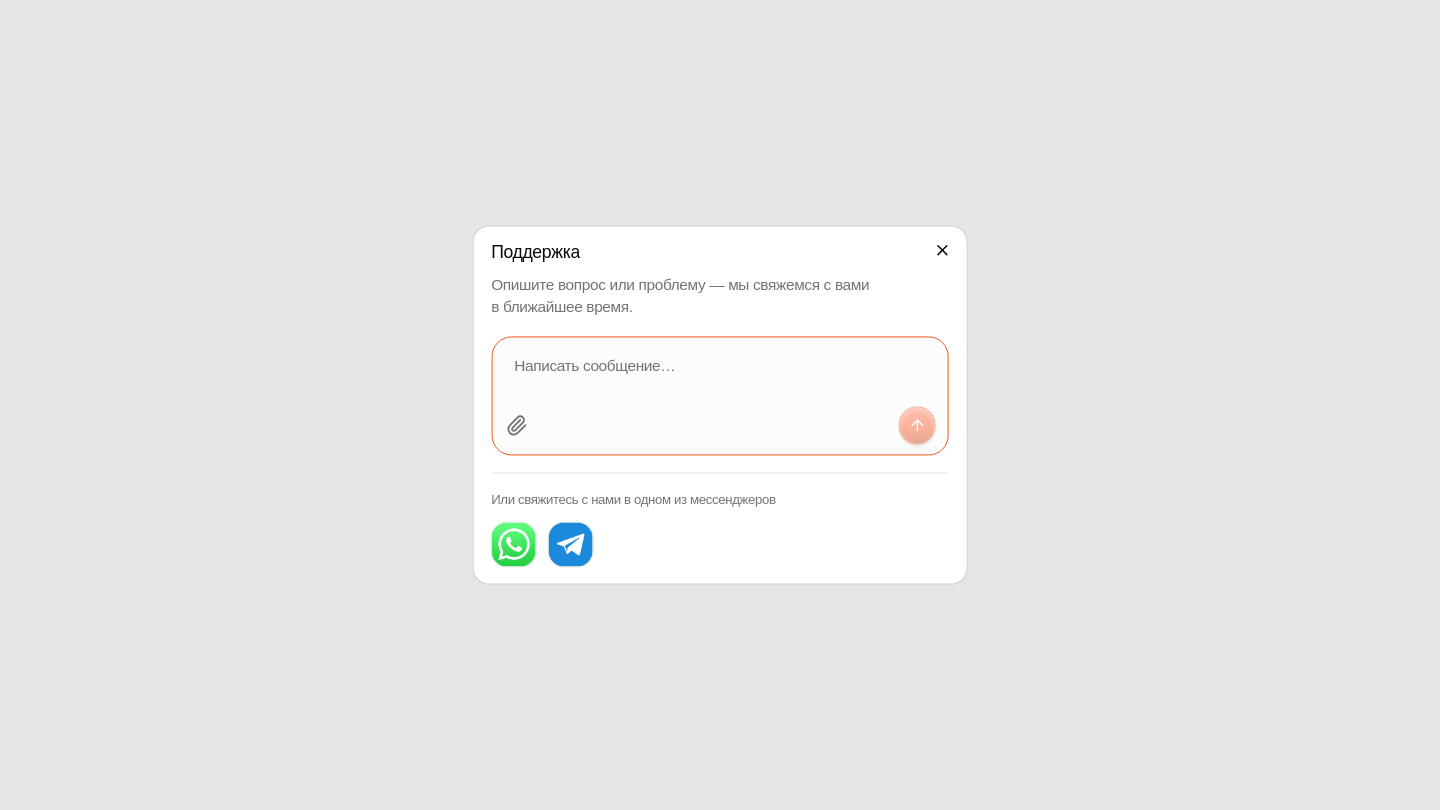
it: SupportDialog › shows an error and keeps the dialog open when sending fails
The width and height of the screenshot is (1440, 810).
Type "Не работает" into the text box.
click(720, 373); type("Не работает")  # box [492,337,948,408]
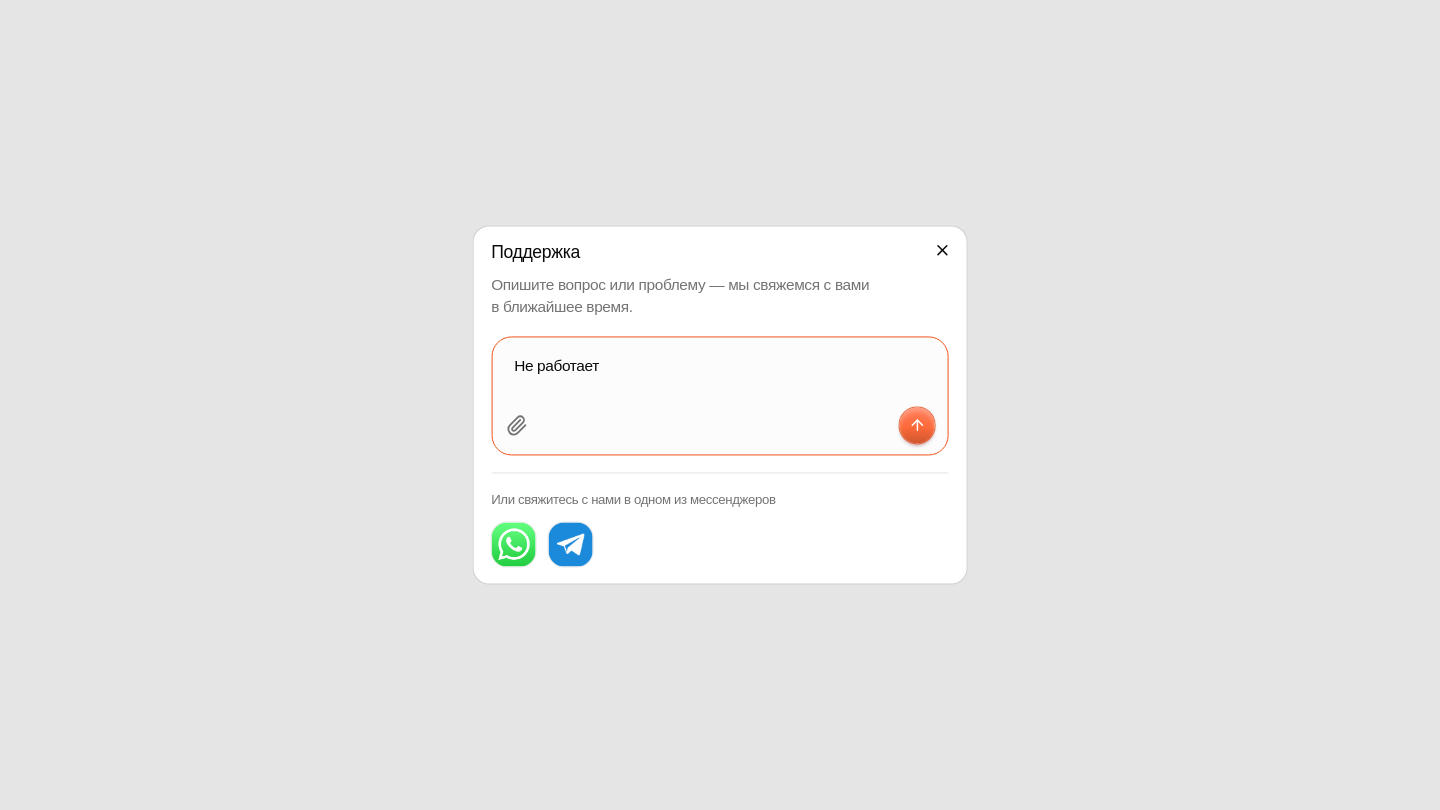
Click the button named "Отправить".
click(917, 425)  # box [899,408,935,443]
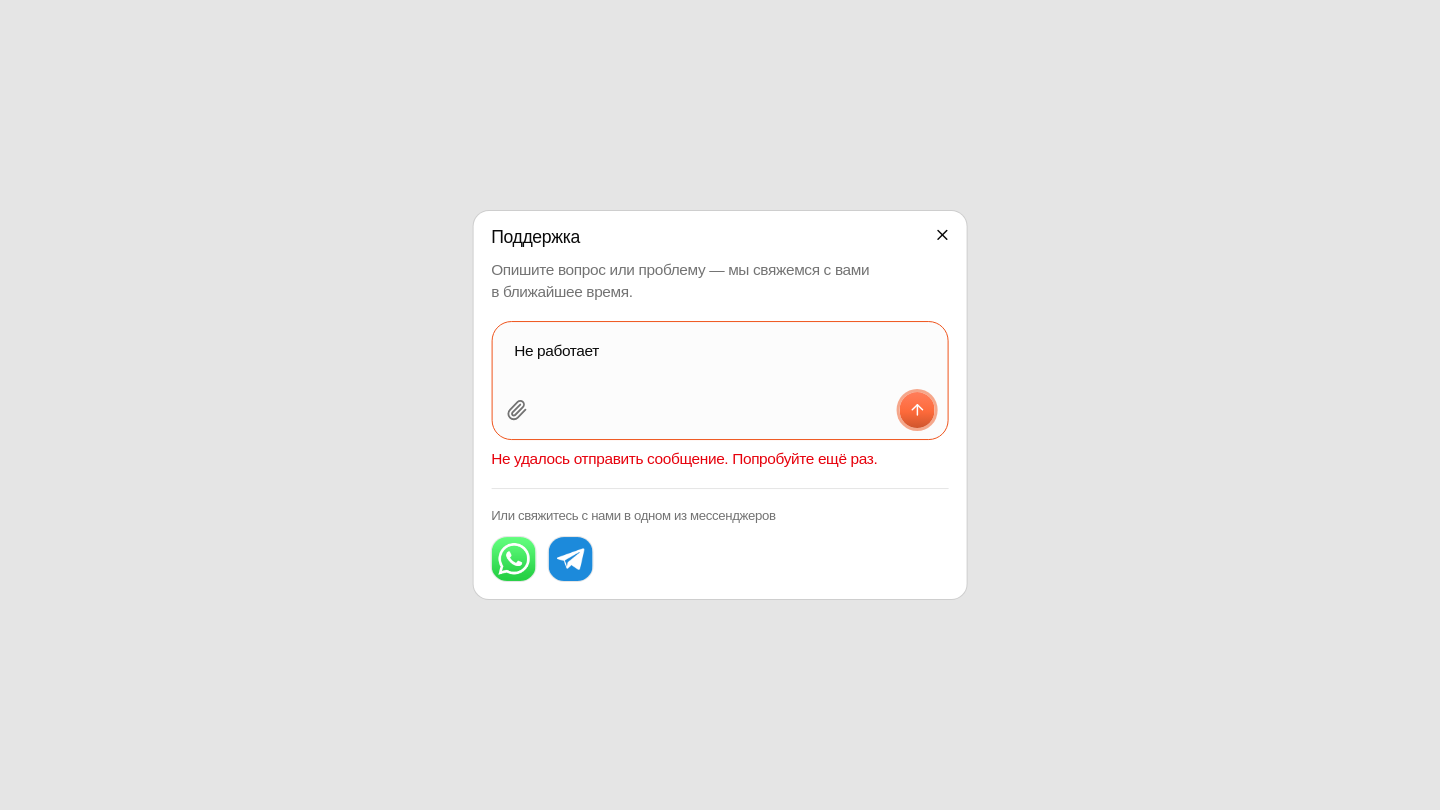
Check: the message shows "Не удалось отправить", box [491,450,877,467]
